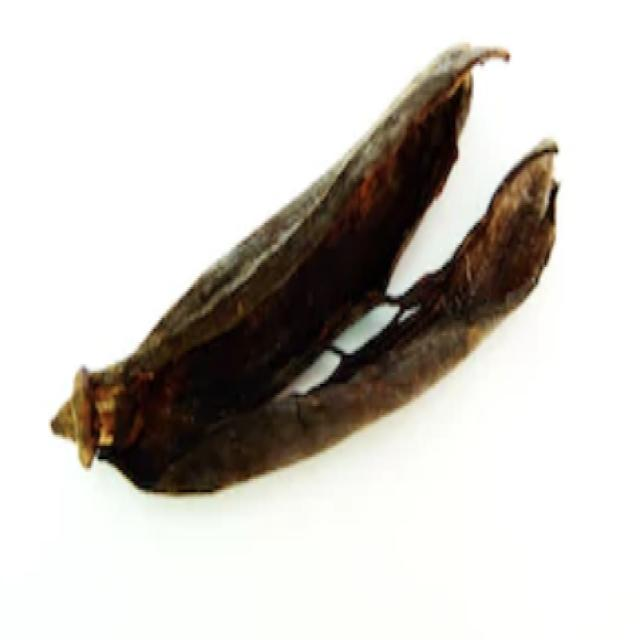rotten-banana: (49, 38, 560, 494)
